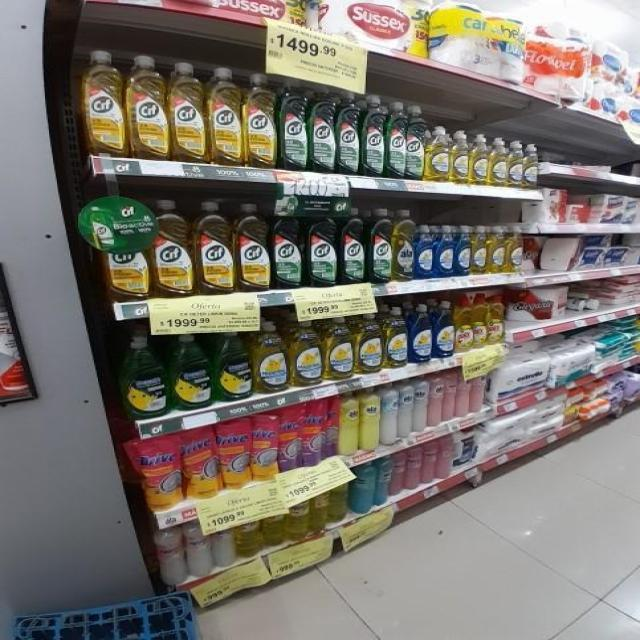ala_conc_amarillo: (393, 208, 414, 283)
ala_crem_amarillo: (338, 391, 358, 456), (360, 388, 380, 451)
ala_crem_blanco: (380, 385, 398, 446), (398, 381, 413, 441)
cif_conc_bot_amarilla: (80, 49, 124, 158), (126, 54, 166, 160), (152, 199, 192, 298), (169, 61, 206, 163), (195, 200, 233, 295), (207, 66, 242, 166), (235, 202, 270, 293), (244, 72, 277, 168)
cif_conc_botella_verde: (272, 200, 304, 290), (279, 78, 308, 171), (307, 205, 337, 288), (309, 86, 335, 174), (336, 91, 361, 176), (340, 206, 365, 286), (361, 96, 385, 177), (368, 207, 392, 284), (386, 100, 406, 179), (406, 103, 425, 180)
drive: (132, 435, 181, 509), (183, 427, 217, 498), (219, 419, 250, 489), (252, 413, 278, 483)
heroe: (186, 521, 212, 577)
magistral_con_amarillo: (253, 321, 288, 393), (290, 317, 322, 387), (324, 316, 353, 380), (354, 311, 382, 374), (383, 307, 408, 369), (426, 126, 450, 182), (451, 129, 469, 184), (470, 133, 488, 185), (506, 226, 525, 273), (489, 137, 507, 186), (488, 226, 506, 274), (472, 225, 488, 275), (508, 140, 524, 188), (524, 143, 540, 189)
magistral_con_azul: (409, 302, 432, 364), (434, 300, 454, 359), (435, 224, 454, 278), (415, 224, 433, 280), (455, 225, 471, 277)
odex: (472, 291, 487, 349)
